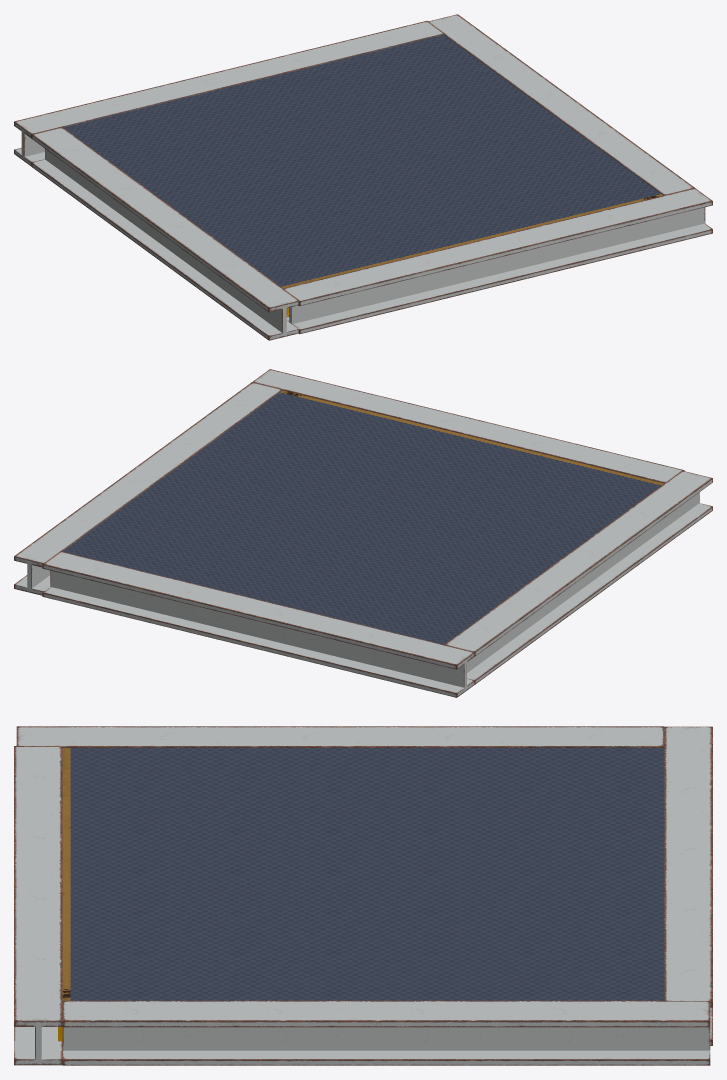
Rendered from mesh_palceholder_platformmitbeams.fbx.
The picture shows the model from 3 angles, top to bottom: view 1: azimuth 30°, elevation 25°; view 2: azimuth 150°, elevation 25°; view 3: azimuth 270°, elevation 25°; orthographic projection. The views are drawn at different scales.
Parts seen in each view (by area): view 1: Cube.003; view 2: Cube.003; view 3: Cube.003.
Boxes of the visible parts, left/top/right/bottom form: Cube.003: left=14, top=14, right=712, bottom=340; Cube.003: left=14, top=369, right=712, bottom=697; Cube.003: left=14, top=726, right=712, bottom=1065.
Bounding box in the file's own units: 4.29 × 0.3122 × 4.3.
